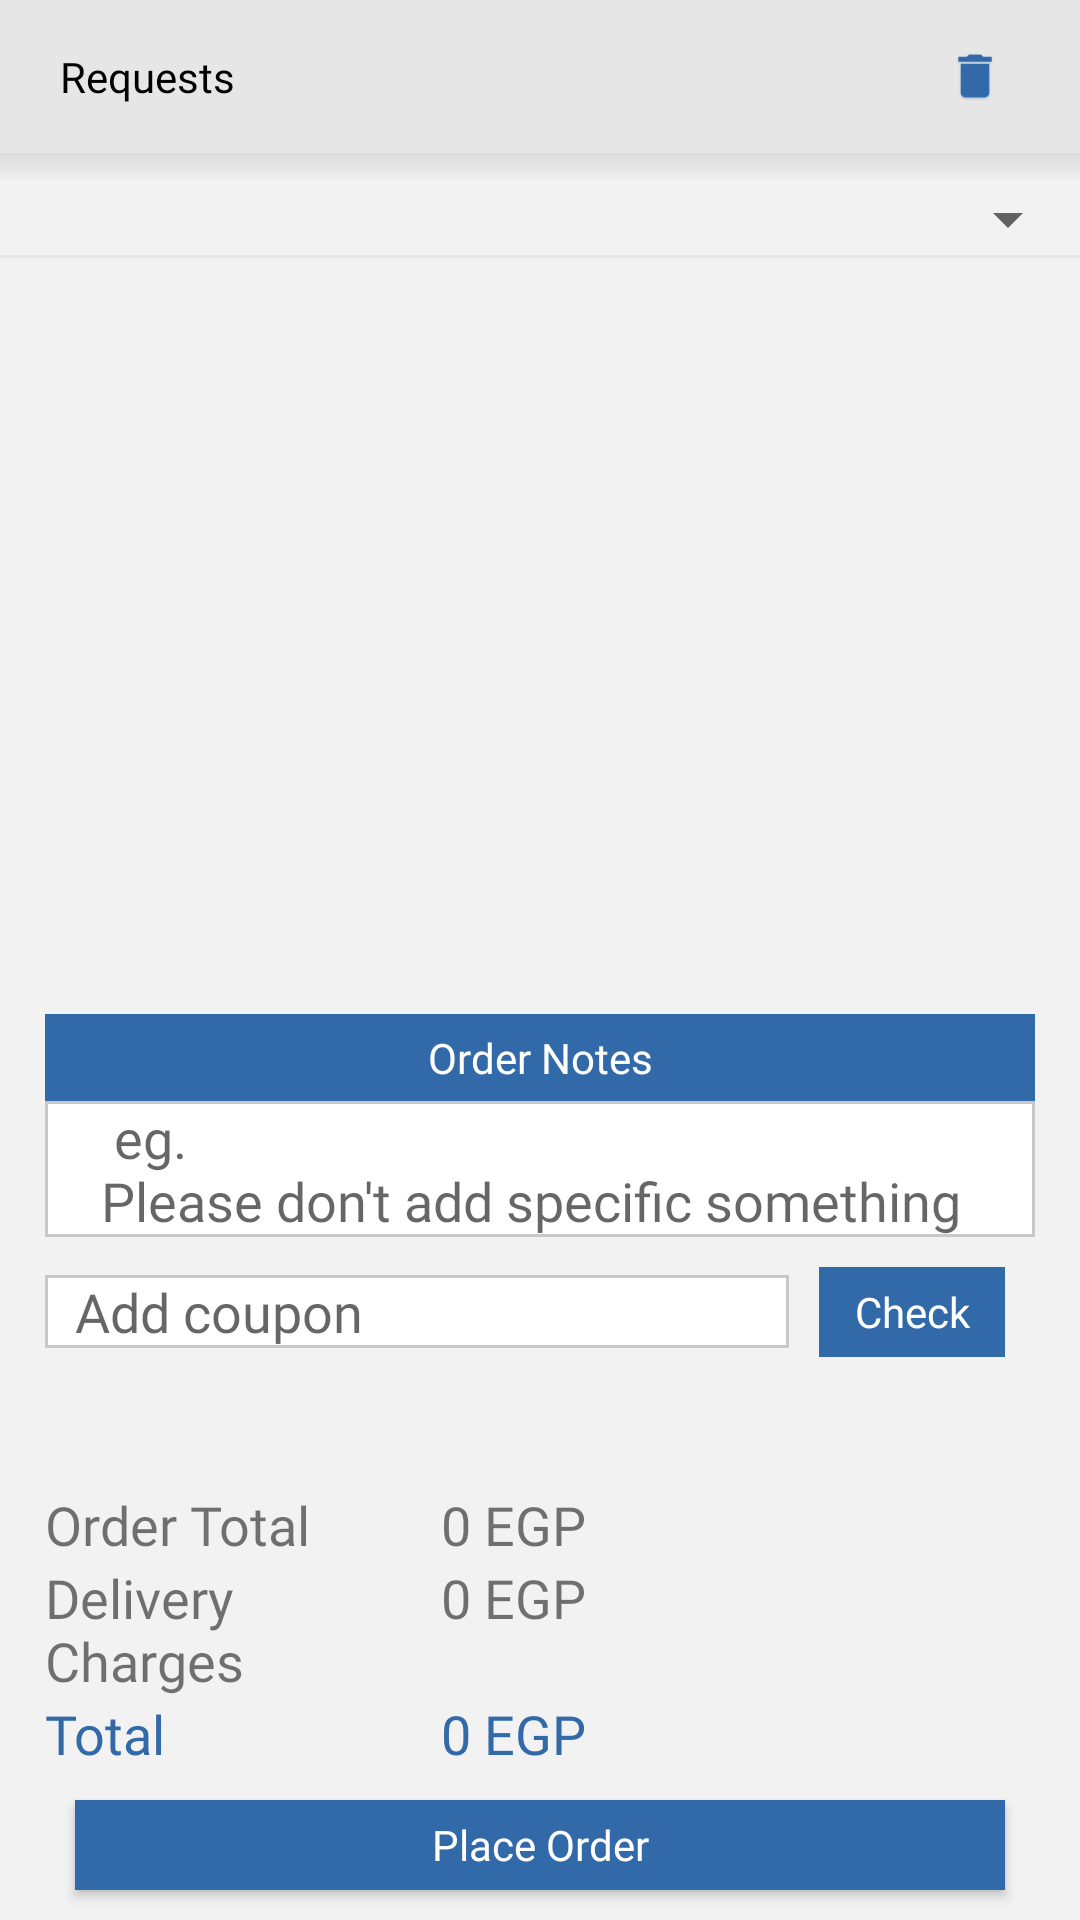

Where icons sit on this 1080 x 1920 app screen, as (x1, y1, x2, y2):
delete: (958, 54, 992, 99)
